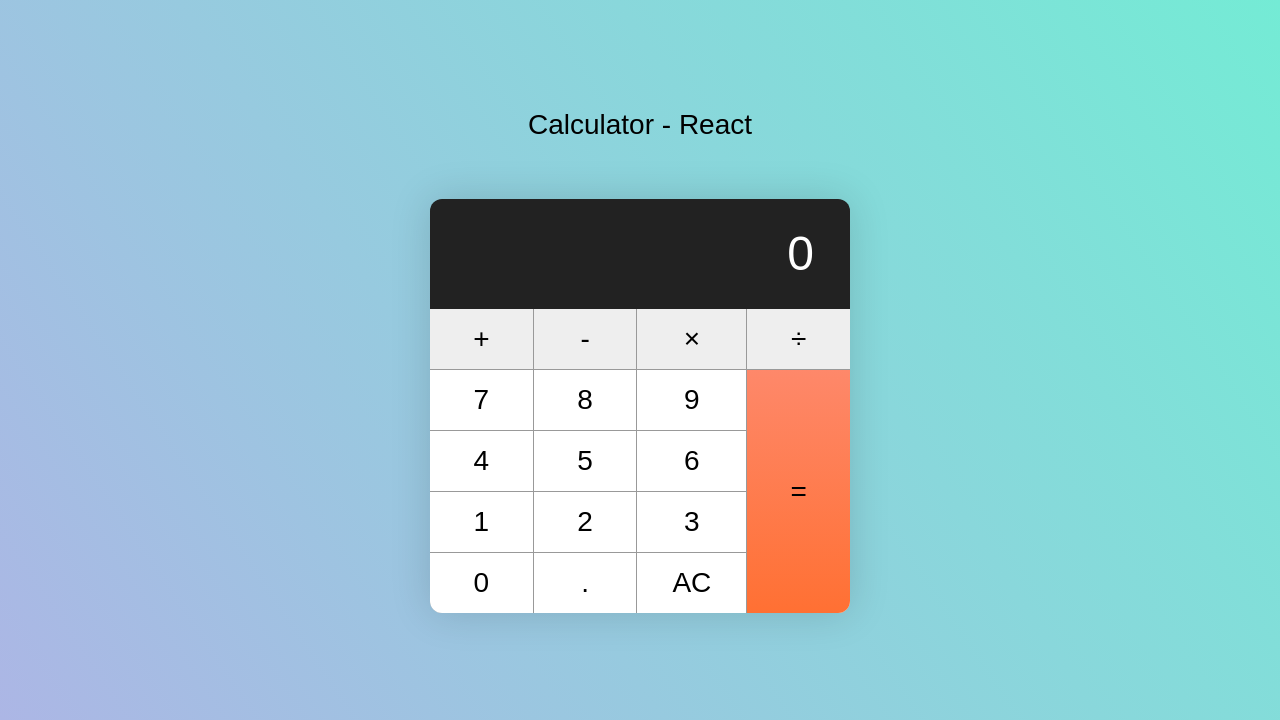
Test case: <CalculatorApp/> component test › should display the selected number
The image size is (1280, 720).
Click the button named "seven": [481, 400] box [430, 370, 533, 430]
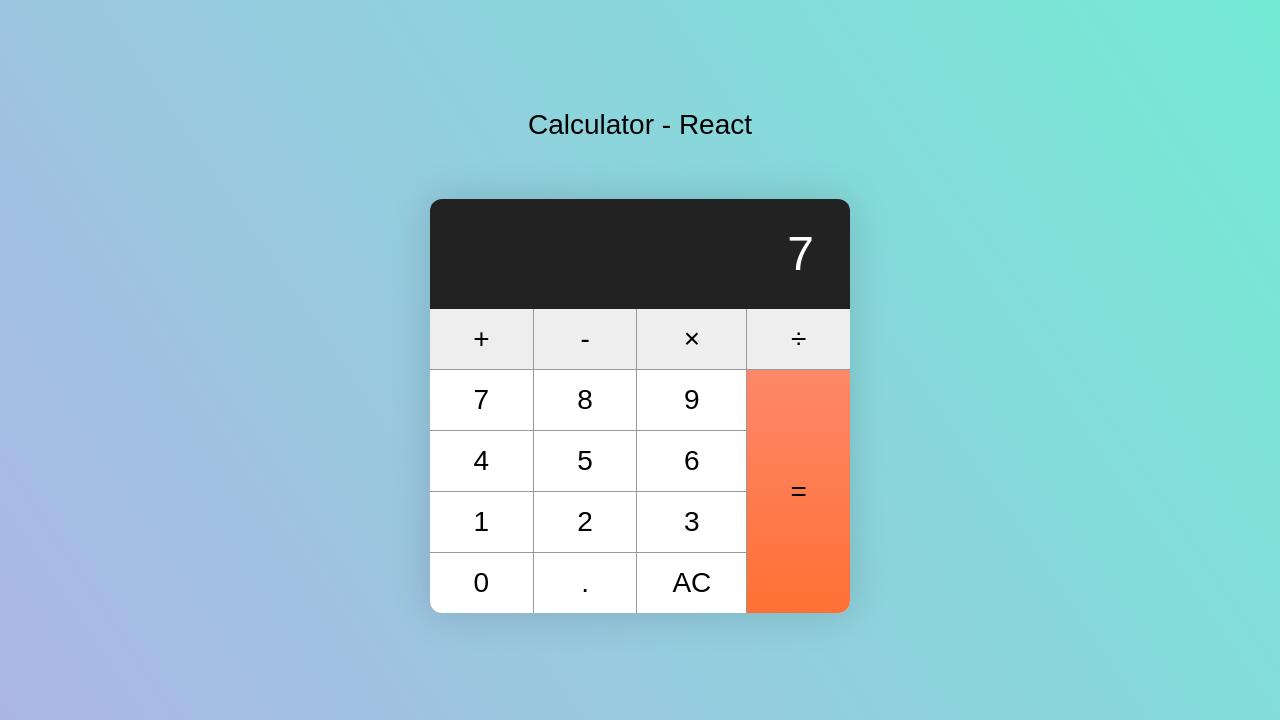
Expected: the text named "display-number" reads "7", [787, 227, 814, 280]
